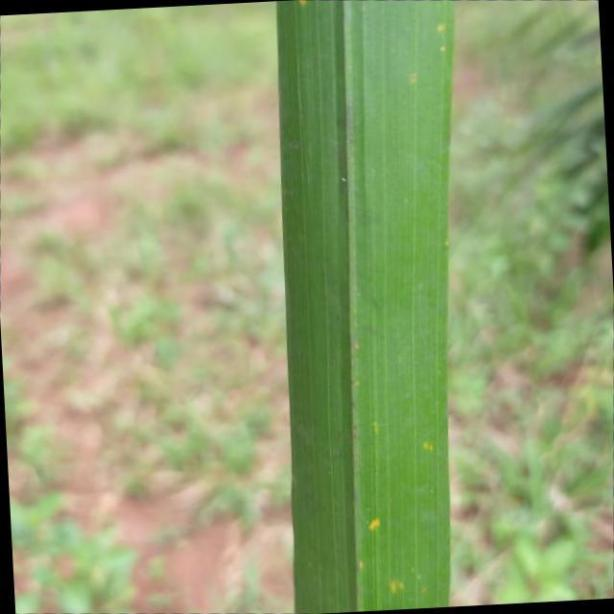Kalium: (274, 0, 460, 608)
